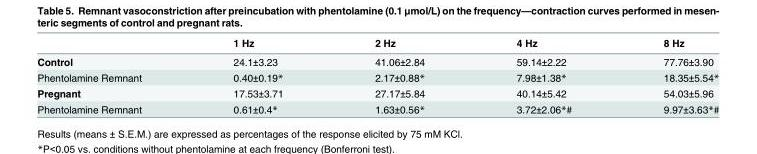table: (36, 36, 718, 114)
table column: (36, 36, 186, 114), (469, 36, 617, 114), (186, 36, 328, 114), (328, 36, 469, 114), (617, 36, 718, 114)
table column header: (36, 36, 718, 51)
table row: (36, 51, 718, 69), (36, 69, 718, 85), (36, 36, 718, 51), (36, 85, 718, 100), (36, 100, 718, 114)
